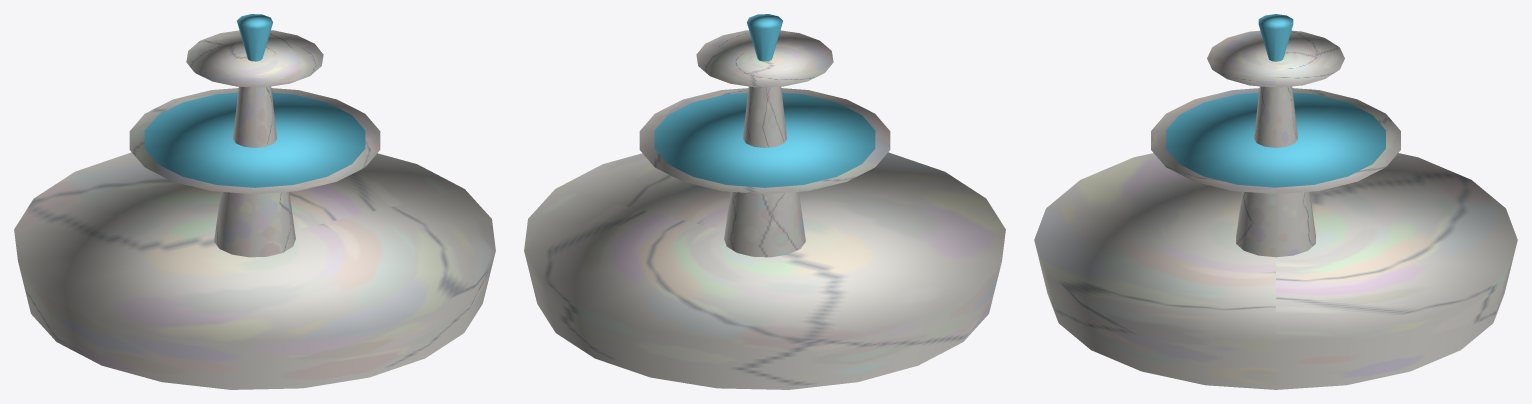
File: arch_stone_fountain.glb
3 views of the same model, side by side, from view 1: azimuth 30°, elevation 25°; view 2: azimuth 150°, elevation 25°; view 3: azimuth 270°, elevation 25° (orthographic).
Parts seen in each view (by area): view 1: stone, water; view 2: stone, water; view 3: stone, water.
Boxes of the visible parts, left/top/right/bottom form: stone: left=14, top=30, right=495, bottom=389; water: left=144, top=14, right=365, bottom=187; stone: left=524, top=30, right=1005, bottom=389; water: left=654, top=14, right=875, bottom=187; stone: left=1034, top=30, right=1517, bottom=389; water: left=1166, top=14, right=1385, bottom=187.
Bounding box in the file's own units: 4.76 × 2.95 × 4.76.
2 materials, 1 textured.
